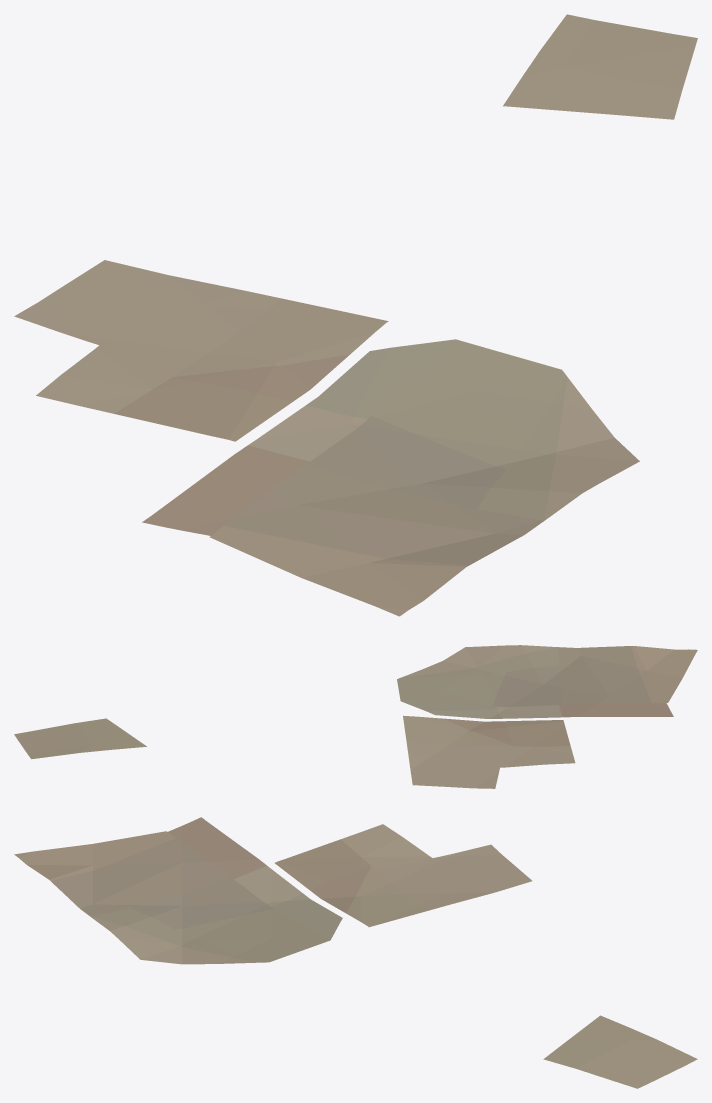
File: farm_2_4_soil.glb
3 renders of one model, top to bottom at view 1: azimuth 30°, elevation 25°; view 2: azimuth 150°, elevation 25°; view 3: azimuth 270°, elevation 25°, orthographic. The views are drawn at different scales.
Visible parts, largest first — view 1: geometry_0; view 2: geometry_0; view 3: geometry_0.
Boxes of the visible parts, x1=… form: geometry_0: x1=14, y1=14, x2=697, y2=616; geometry_0: x1=14, y1=645, x2=697, y2=788; geometry_0: x1=14, y1=817, x2=697, y2=1088.
Size of the model in its own units: 580 by 18.21 by 612.
